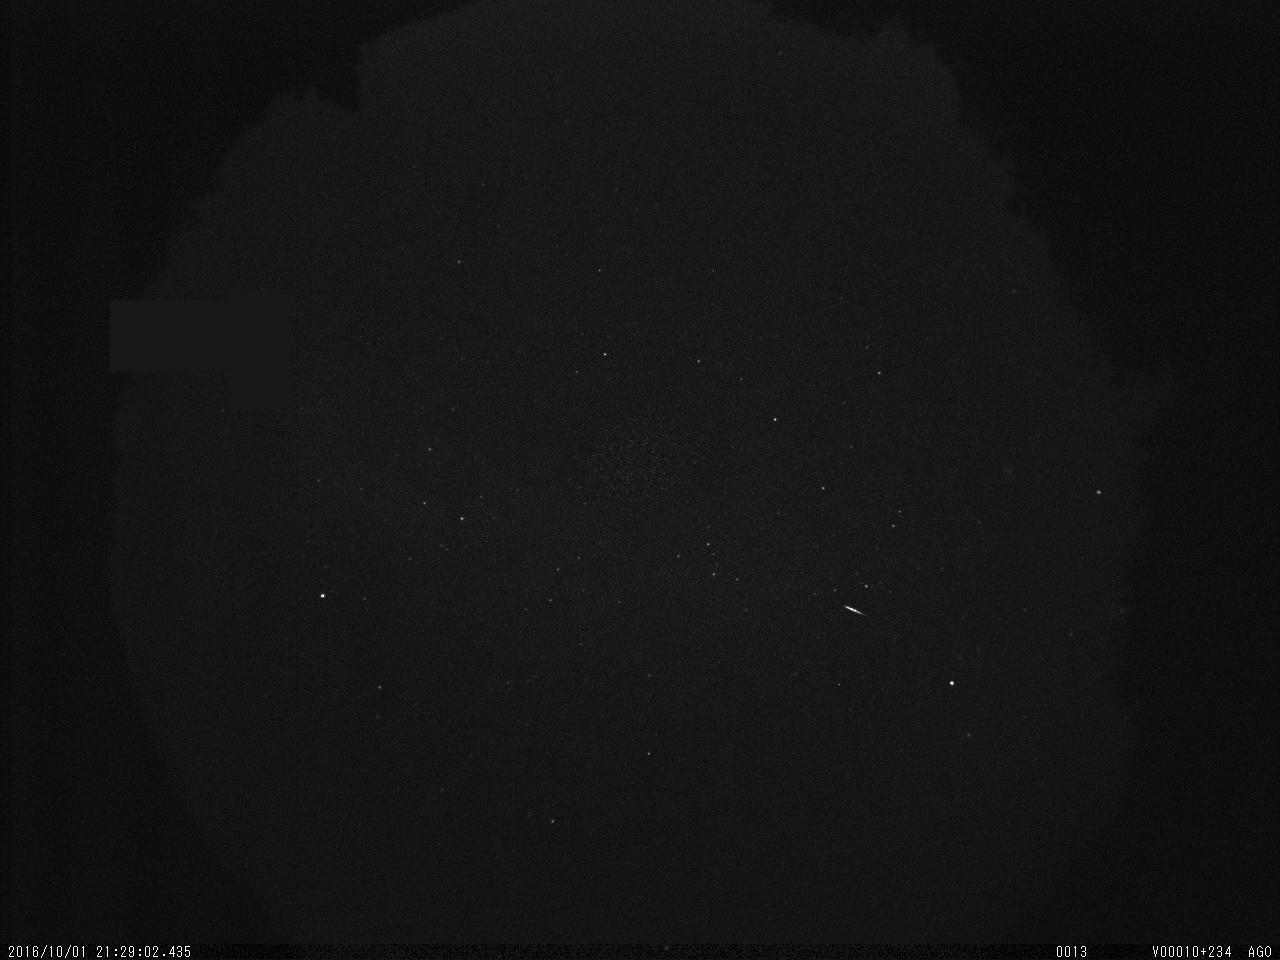meteor: (840, 596, 868, 625)
